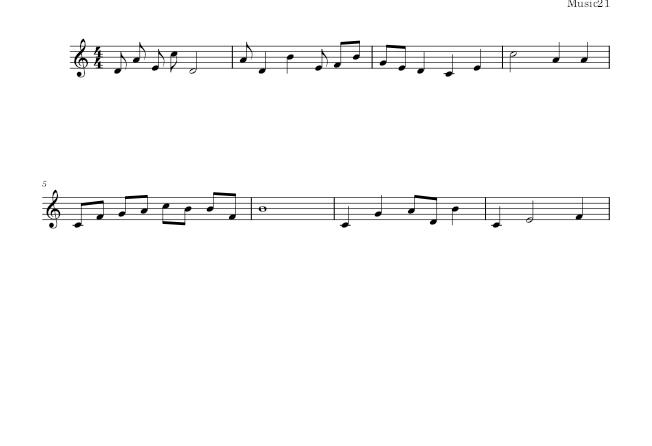Treble Clef: (69, 35, 91, 82), (44, 187, 63, 233)
